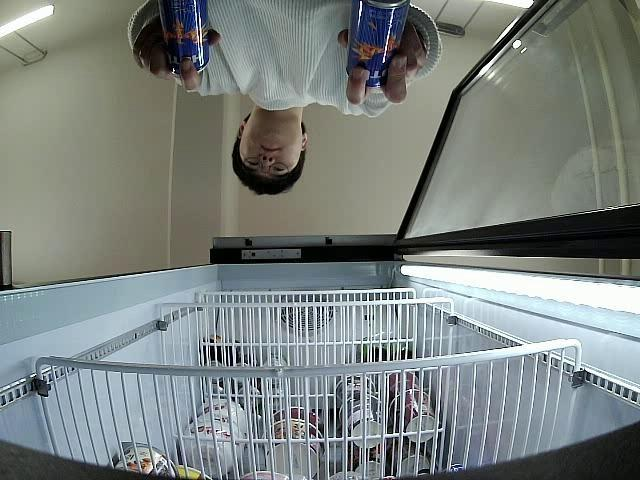16_hot6: (346, 0, 410, 91), (160, 0, 210, 76)
